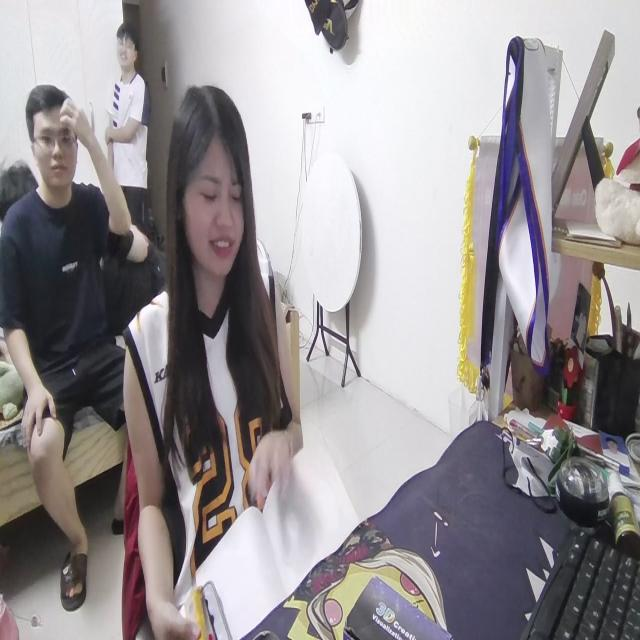book: (191, 429, 363, 631)
extra_person: (0, 83, 145, 606), (105, 29, 147, 229)
student: (119, 92, 313, 635)
